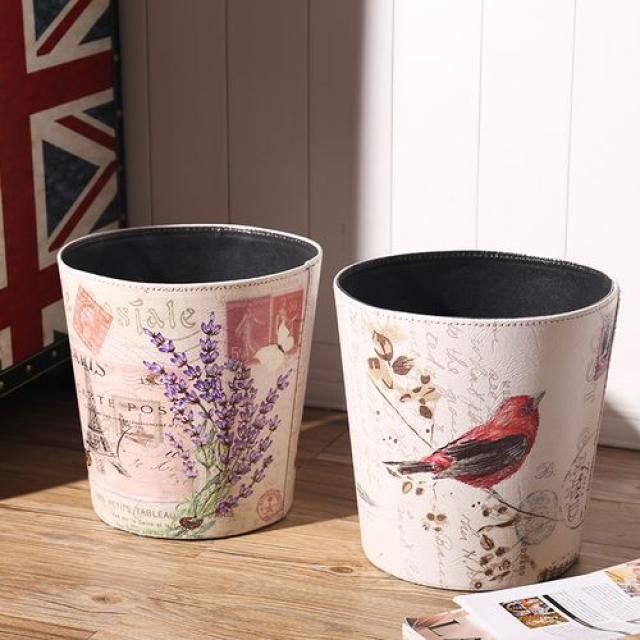dustbin: (329, 241, 625, 598), (52, 219, 328, 542)
